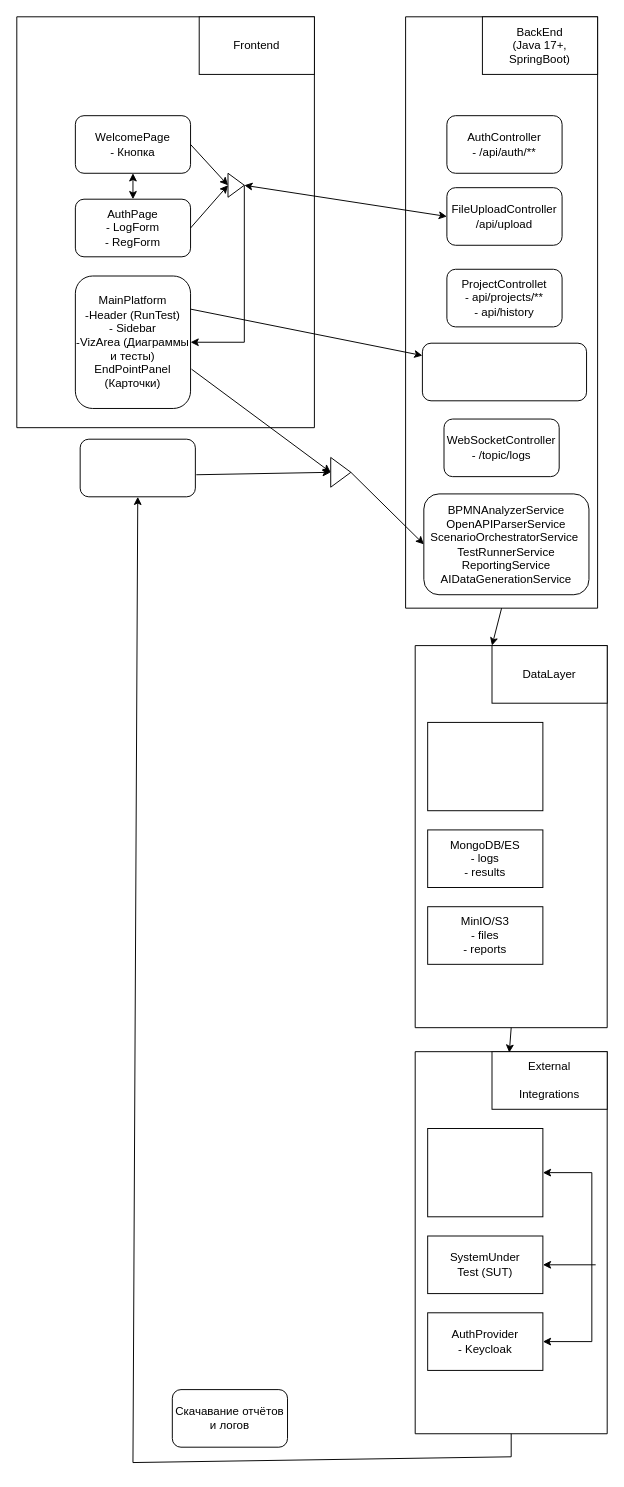
Image size: 624x1487. Some labels were removed from this diagram. The box of each missing label's shape, as (x1, y1, x2, y2) in pixels:
PostgreSQL - users - projects - sessions: (427, 721, 543, 811)
Python ML Service - data gen -scenarios: (427, 1128, 543, 1217)
TestOrchestrationController - /api/run-test: (421, 342, 587, 401)
WebSocket (Логи, Стутус): (79, 438, 195, 497)
